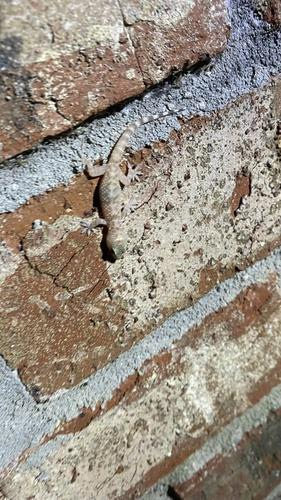lizard: (69, 104, 190, 258)
